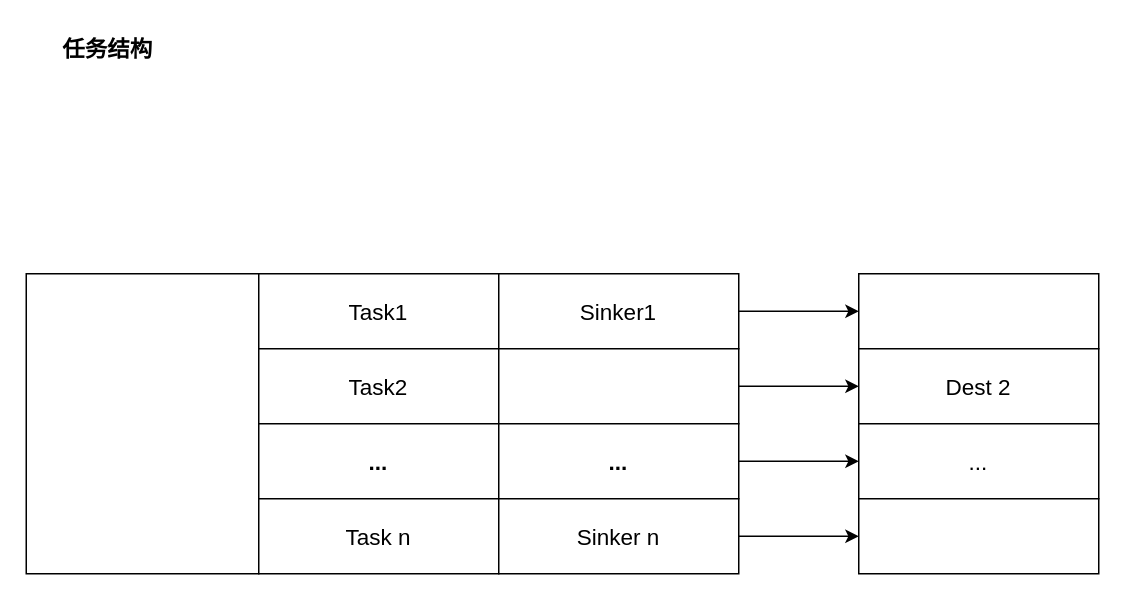
This 1125x600 diagram has some shape labels left out. Each missing label, with the centre of its shape:
"Dest 1" belongs at (x=978, y=310).
"Dest n" belongs at (x=978, y=535).
"Instance MySQL/Redis PG/Mongo/Other" belongs at (x=142, y=423).
"Sinker2" belongs at (x=618, y=385).
